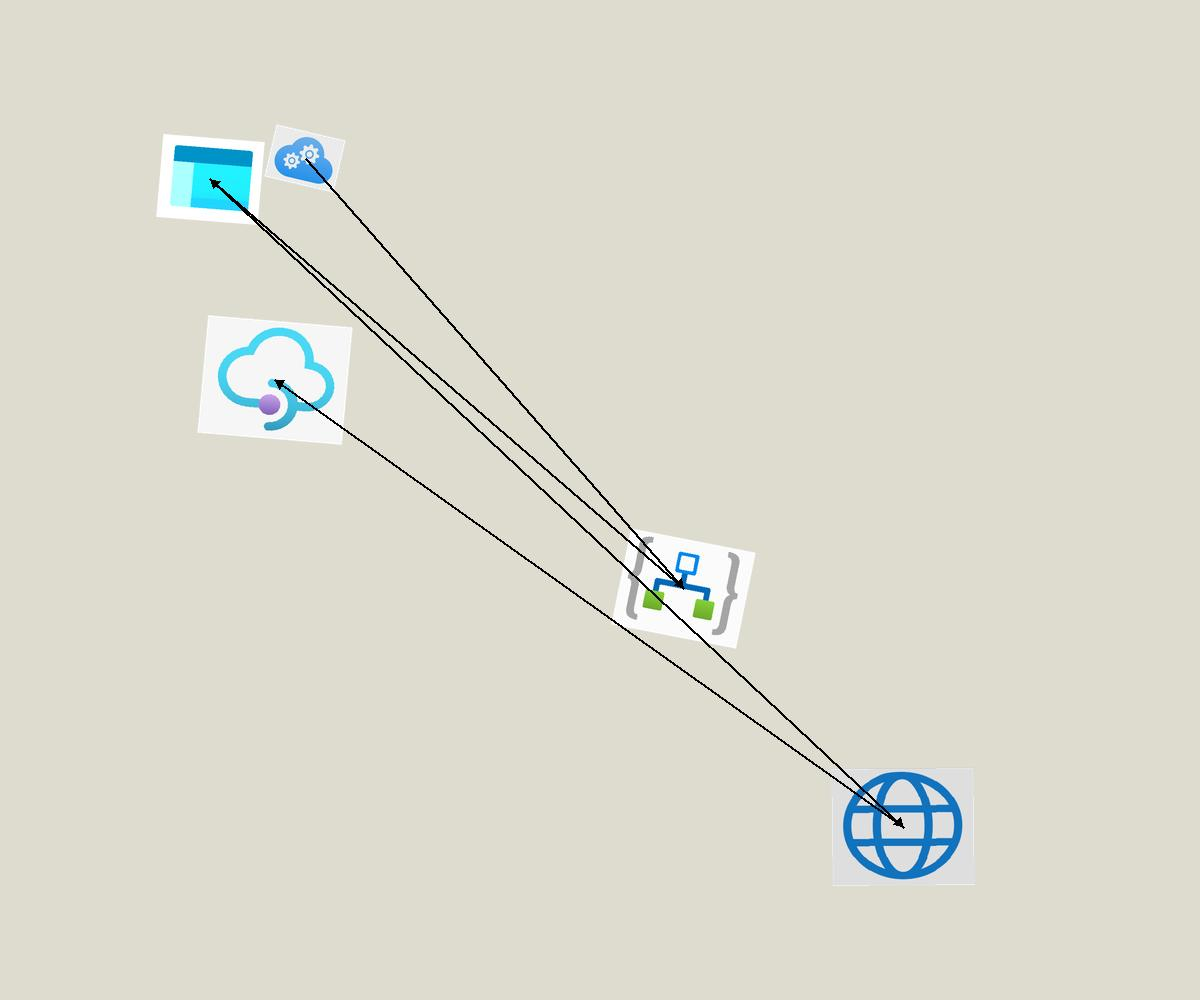Azure_api_gateway: (197, 315, 353, 445)
Azure_cloud_services: (264, 124, 346, 193)
Azure_http: (831, 767, 975, 887)
Azure_integration-204-Logic-Apps: (611, 528, 756, 649)
Azure_management-portal: (156, 134, 265, 225)
